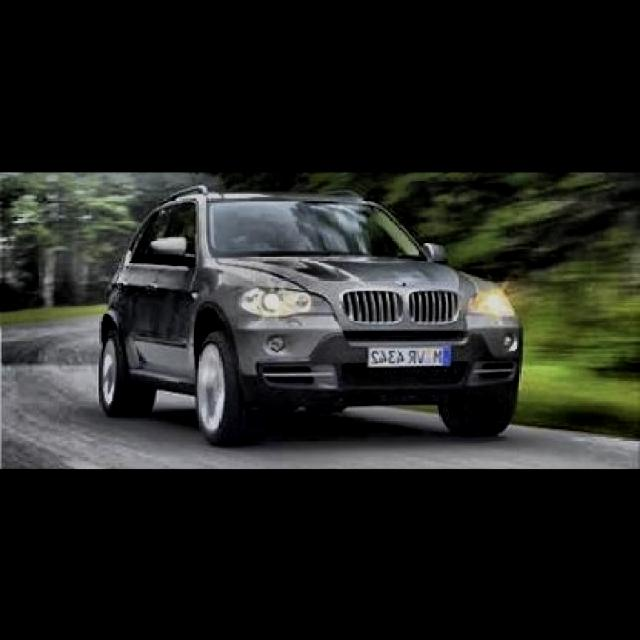black: (86, 188, 516, 436)
